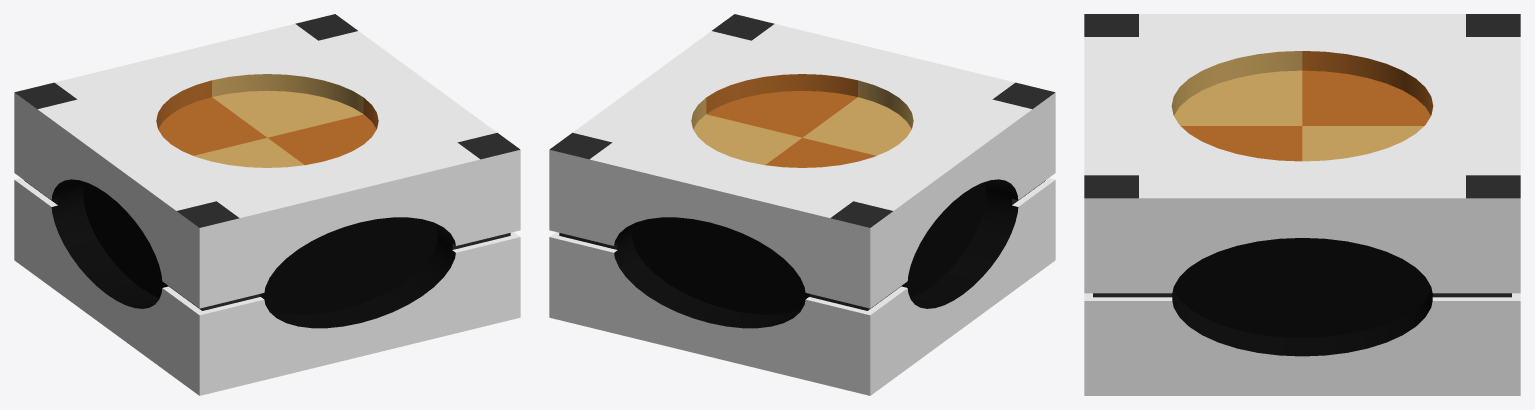
The model's file is UnDestoryHalf.fbx.
3 renders of one model, left to right at view 1: azimuth 30°, elevation 25°; view 2: azimuth 150°, elevation 25°; view 3: azimuth 270°, elevation 25°, orthographic. The views are drawn at different scales.
Parts seen in each view (by area): view 1: UnDestory; view 2: UnDestory; view 3: UnDestory.
Part boxes in pixels (x1=…): UnDestory: x1=14, y1=14, x2=520, y2=395; UnDestory: x1=549, y1=14, x2=1055, y2=395; UnDestory: x1=1084, y1=14, x2=1520, y2=395.
Size of the model in its own units: 5 by 2.5 by 5.
